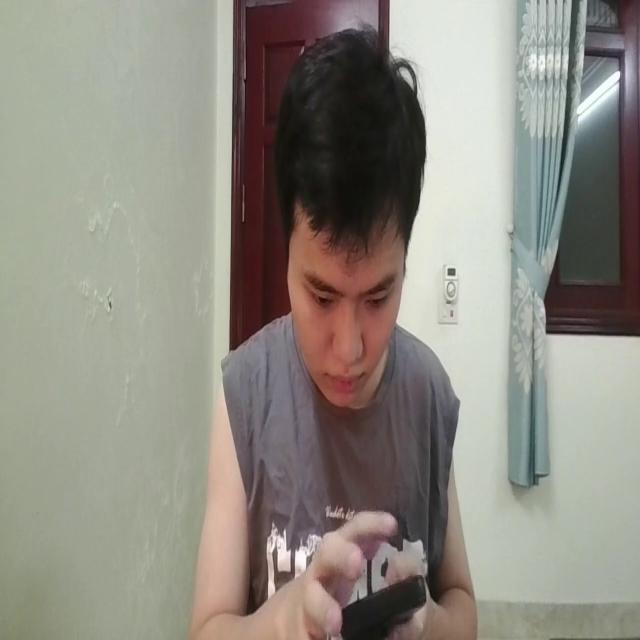phone: (333, 572, 430, 633)
student: (183, 24, 480, 640)
